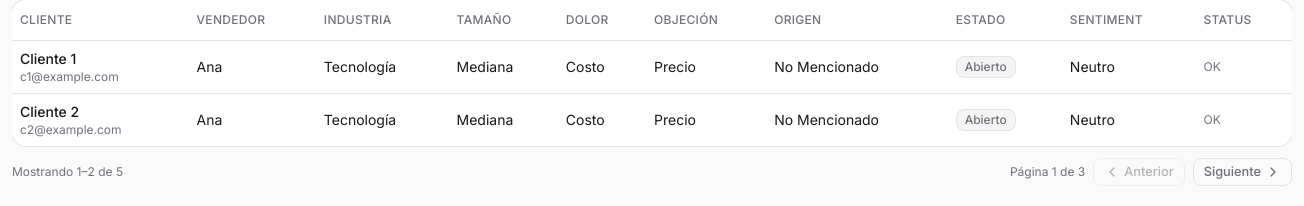
Test: ClientsTable › paginates: shows first `pageSize` clients and navigates to next page
The image size is (1304, 206).
Expected: the text "Cliente 1" is shown, [20, 50, 76, 66]
Expected: the text "Cliente 2" is shown, [20, 102, 79, 120]
Click the button with aria-label "página siguiente".
click(1242, 172)  # box [1193, 158, 1292, 186]
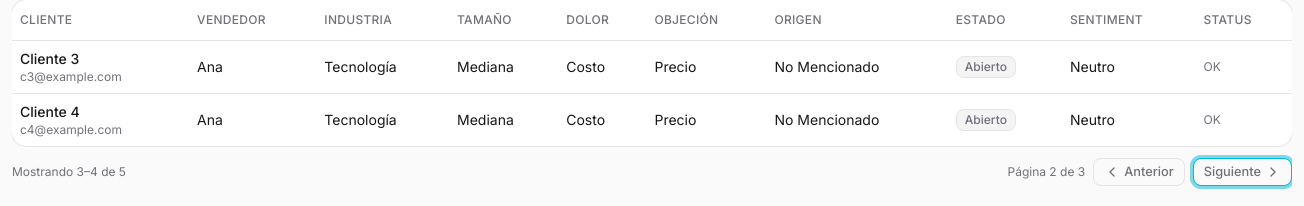
Expected: the text "Cliente 3" is shown, [20, 50, 79, 66]
Expected: the text "Cliente 4" is shown, [20, 102, 80, 120]
Expected: the button "Cliente 1" is gone
Click the button with aria-label "página siguiente".
click(1242, 172)  # box [1193, 158, 1292, 186]
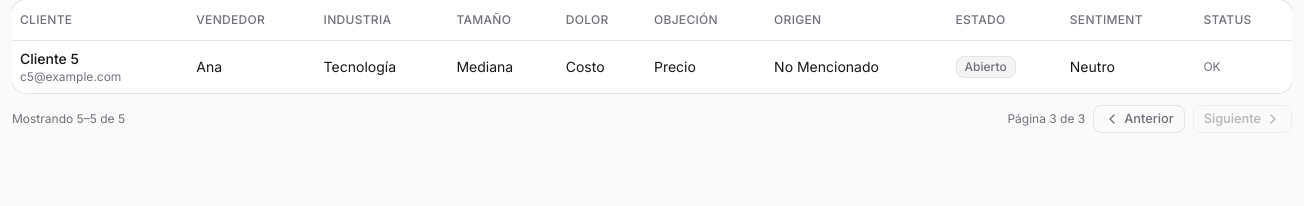
Expected: the text "Cliente 5" is shown, [20, 50, 79, 66]
Expected: the button with aria-label "página siguiente" is disabled, [1193, 104, 1292, 132]
